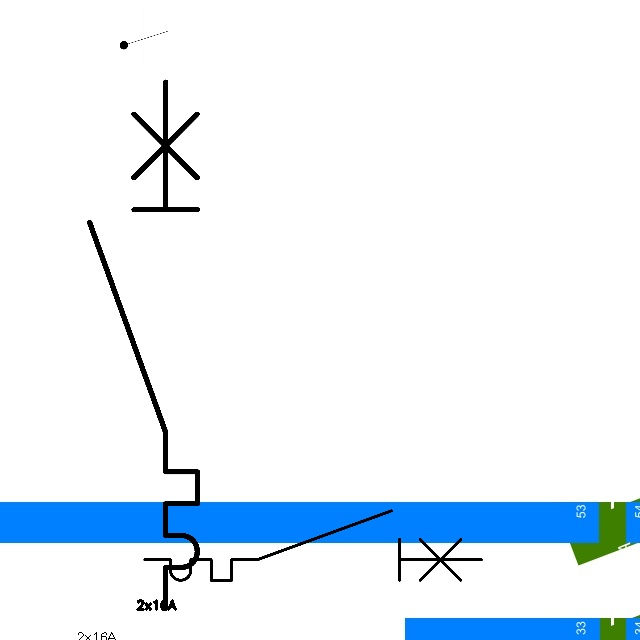interruptor_termomagnetico: (76, 68, 211, 620), (136, 502, 490, 589)
